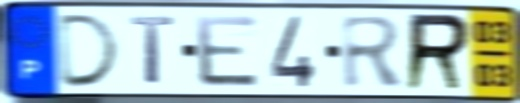4: (269, 14, 318, 89)
D: (57, 12, 124, 90)
E: (193, 13, 263, 90)
R: (402, 11, 473, 94), (339, 14, 409, 91)
T: (128, 14, 178, 88)
